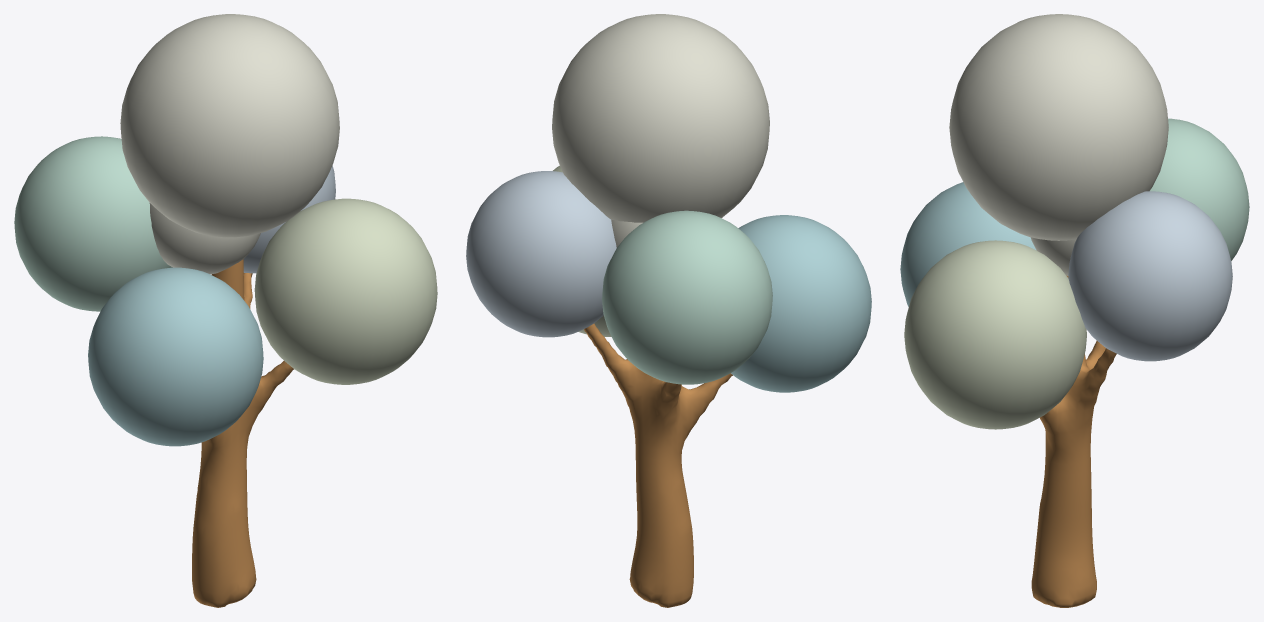
The model's file is oak-small.glb.
3 views of the same model, side by side, from view 1: azimuth 30°, elevation 25°; view 2: azimuth 150°, elevation 25°; view 3: azimuth 270°, elevation 25° (orthographic).
Visible parts, largest first — view 1: Tree · independent spherical crown, Tree · visible rounded forks; view 2: Tree · independent spherical crown, Tree · visible rounded forks; view 3: Tree · independent spherical crown, Tree · visible rounded forks.
Boxes of the visible parts, left/top/right/bottom form: Tree · independent spherical crown: left=14, top=14, right=437, bottom=446; Tree · visible rounded forks: left=192, top=259, right=293, bottom=607; Tree · independent spherical crown: left=466, top=14, right=871, bottom=392; Tree · visible rounded forks: left=584, top=323, right=732, bottom=607; Tree · independent spherical crown: left=900, top=14, right=1249, bottom=429; Tree · visible rounded forks: left=1031, top=275, right=1116, bottom=607.
Bounding box in the file's own units: 0.877 × 1.46 × 0.7927.
